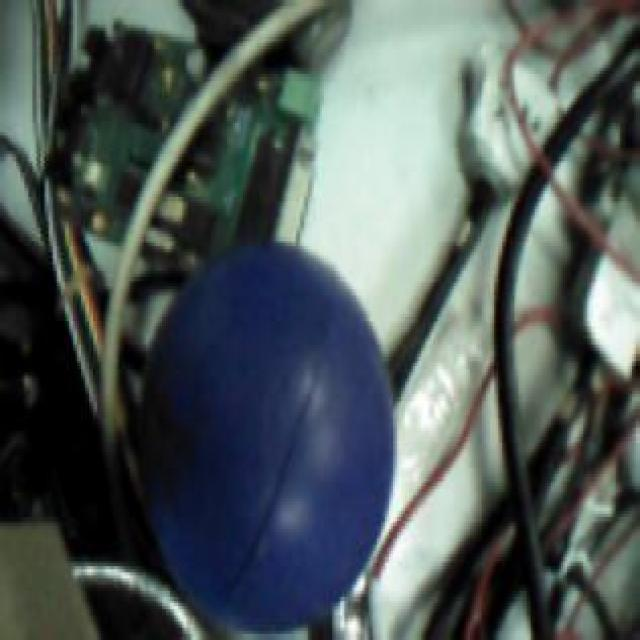BallPurple: (137, 240, 394, 635)
